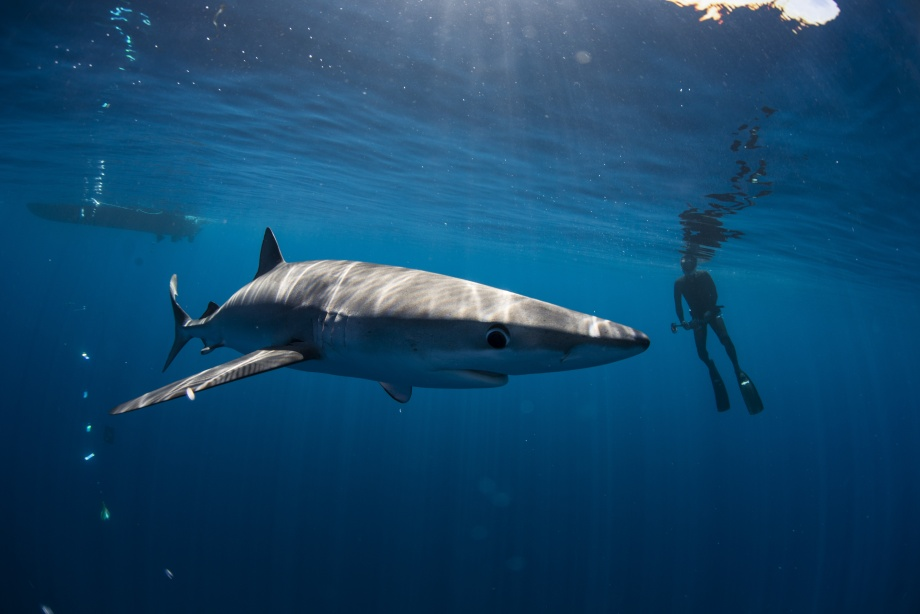Azul: (74, 197, 677, 432)
